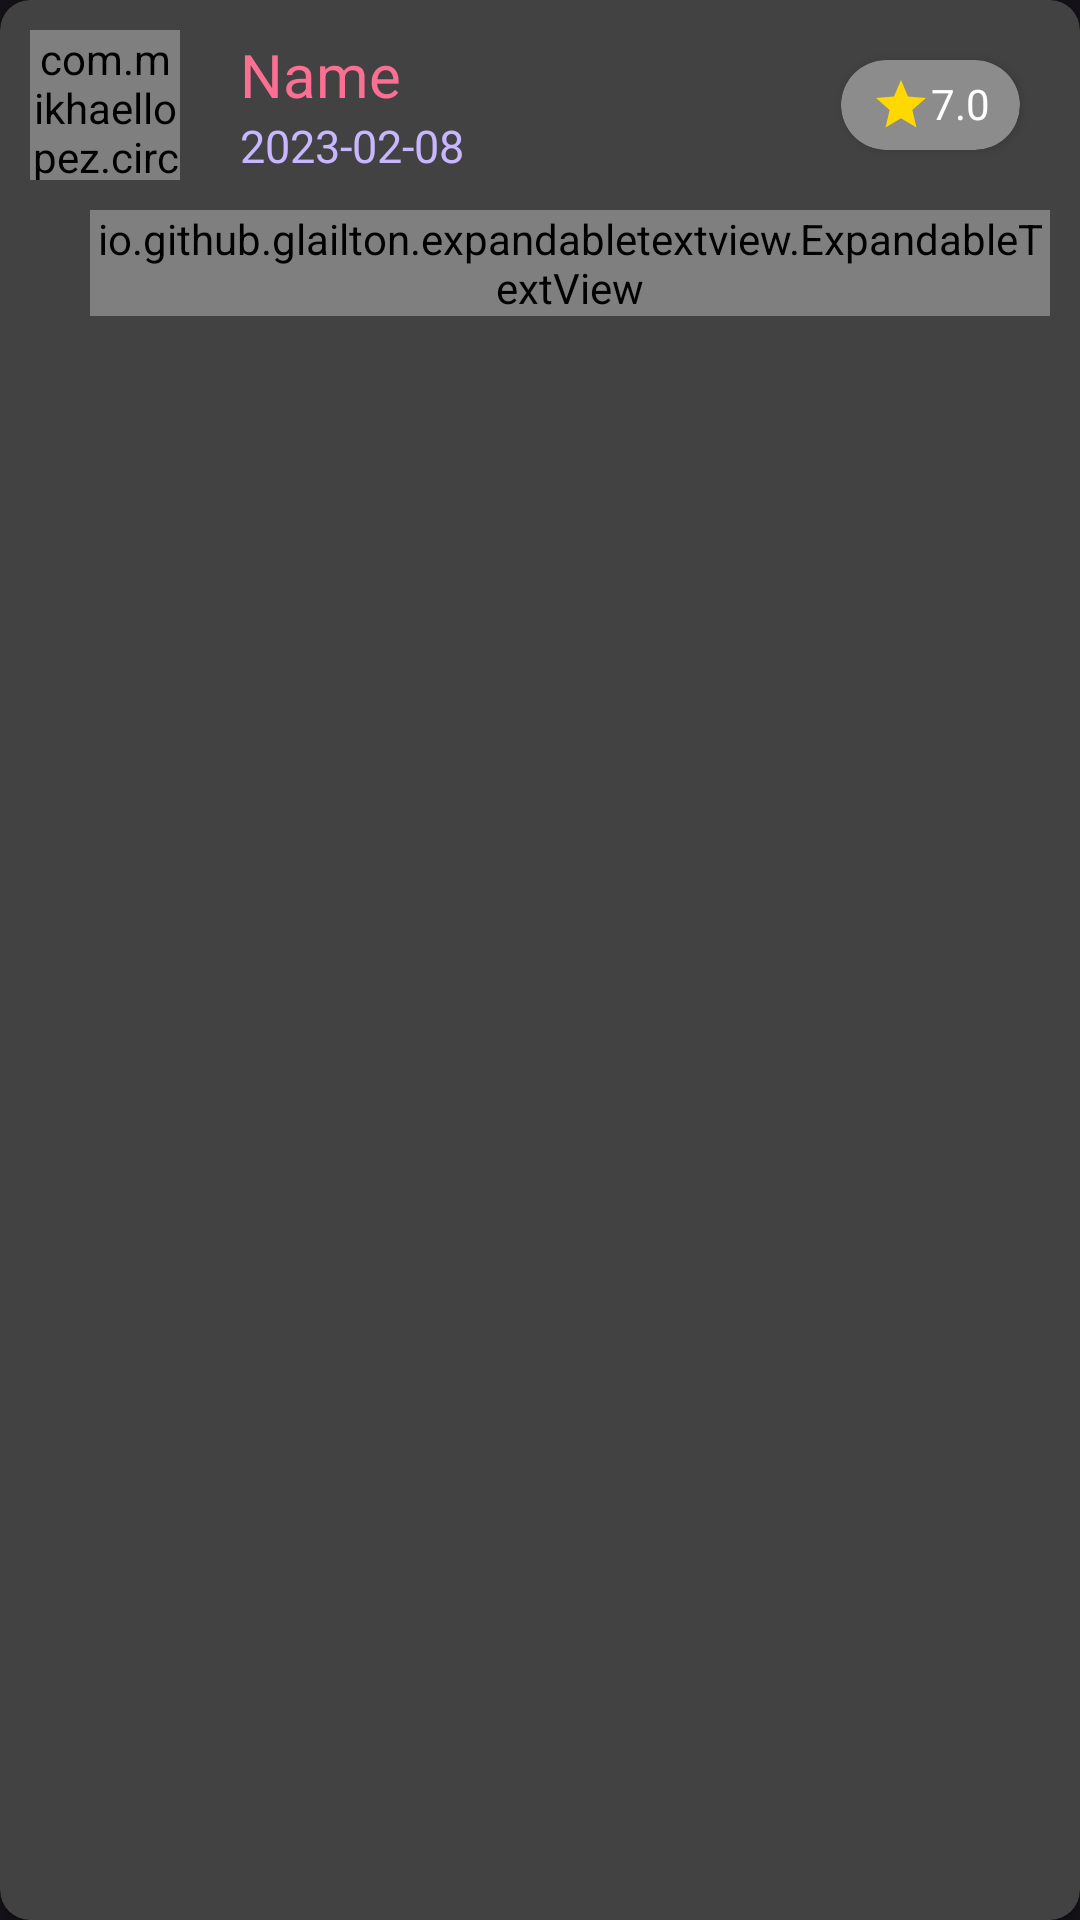

Screen size 1080px x 1920px. Icon name, then its box in pixels as (x1, y1, x2, y2):
star: (876, 80, 926, 127)
